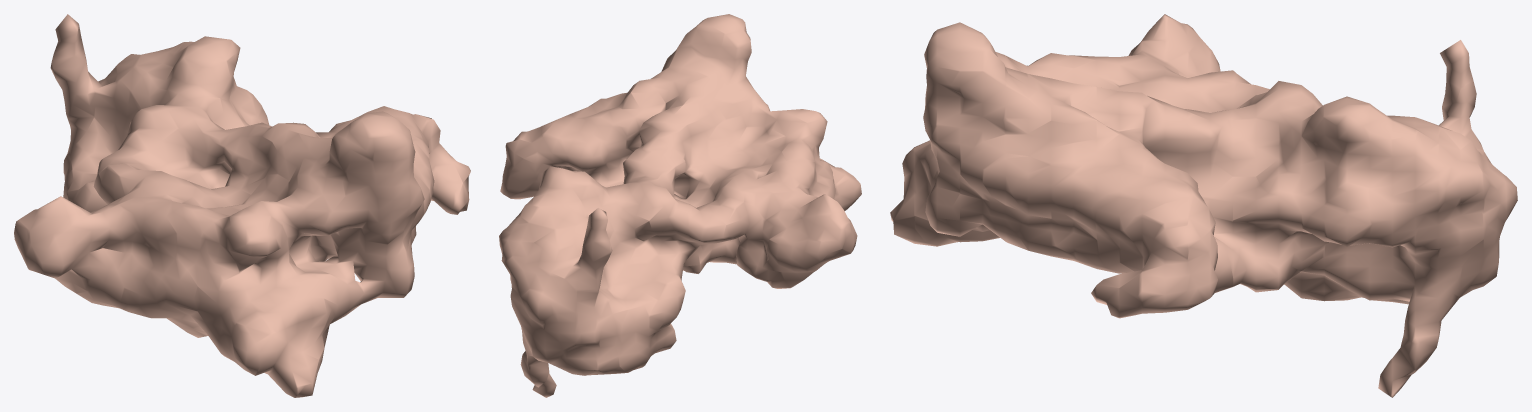
Rendered from CoarseMS_3j1z_1_1.dae.
3 views of the same model, side by side, from view 1: azimuth 30°, elevation 25°; view 2: azimuth 150°, elevation 25°; view 3: azimuth 270°, elevation 25° (orthographic). The views are drawn at different scales.
Visible parts, largest first — view 1: CoarseMS_3j1z_aligned; view 2: CoarseMS_3j1z_aligned; view 3: CoarseMS_3j1z_aligned.
Part boxes in pixels (x1=…): CoarseMS_3j1z_aligned: x1=14, y1=14, x2=470, y2=397; CoarseMS_3j1z_aligned: x1=499, y1=14, x2=861, y2=397; CoarseMS_3j1z_aligned: x1=890, y1=14, x2=1517, y2=397.
Bounding box in the file's own units: 86.16 × 61.93 × 98.83.
